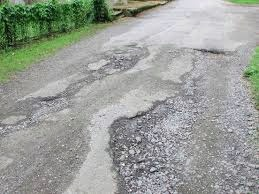pothole: (108, 39, 258, 192), (1, 88, 75, 127), (103, 45, 148, 72), (61, 70, 100, 87)
